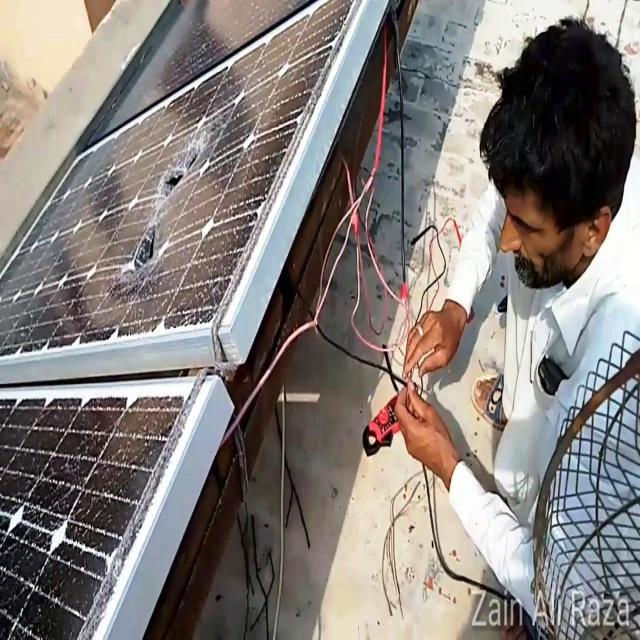faulty: (0, 1, 384, 359), (1, 388, 232, 638)
